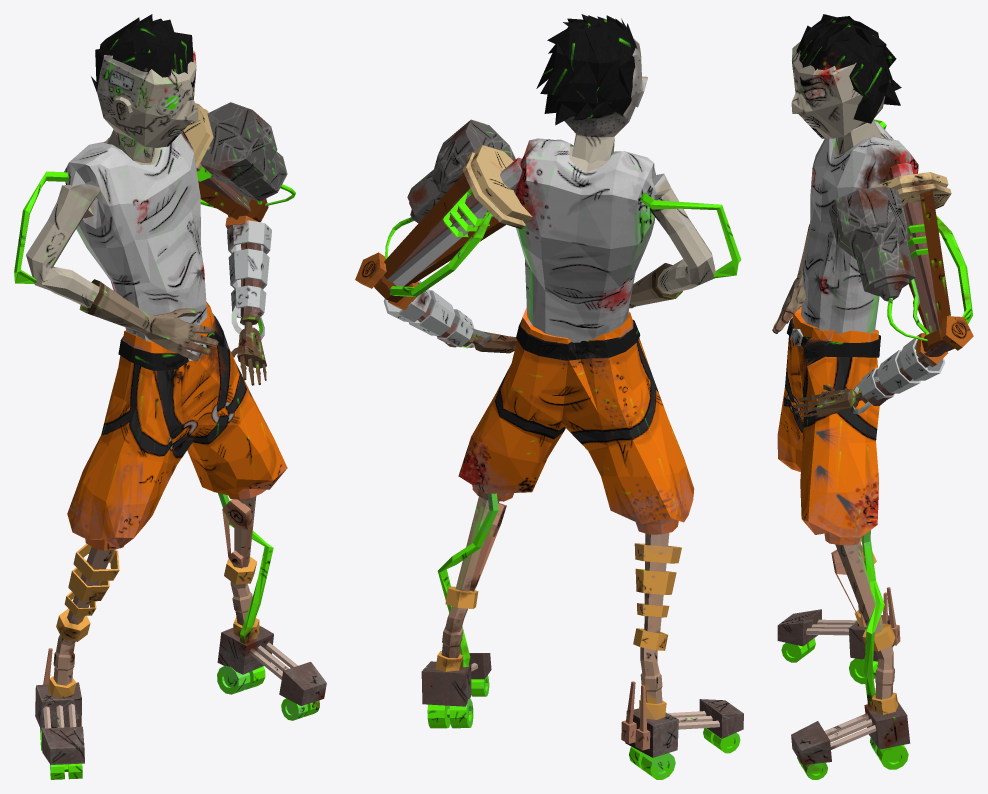
Rendered from CyborgFINALAnimation_000072.obj.
3 views of the same model, side by side, from view 1: azimuth 30°, elevation 25°; view 2: azimuth 150°, elevation 25°; view 3: azimuth 270°, elevation 25° (orthographic). The views are drawn at different scales.
Parts seen in each view (by area): view 1: CyborgMesh_Cube.002; view 2: CyborgMesh_Cube.002; view 3: CyborgMesh_Cube.002.
Part boxes in pixels (x1,y1,x2,y2): CyborgMesh_Cube.002: (14,14,326,779); CyborgMesh_Cube.002: (355,14,743,779); CyborgMesh_Cube.002: (772,14,973,779).
Size of the model in its own units: 4.37 by 9.6 by 2.53.
